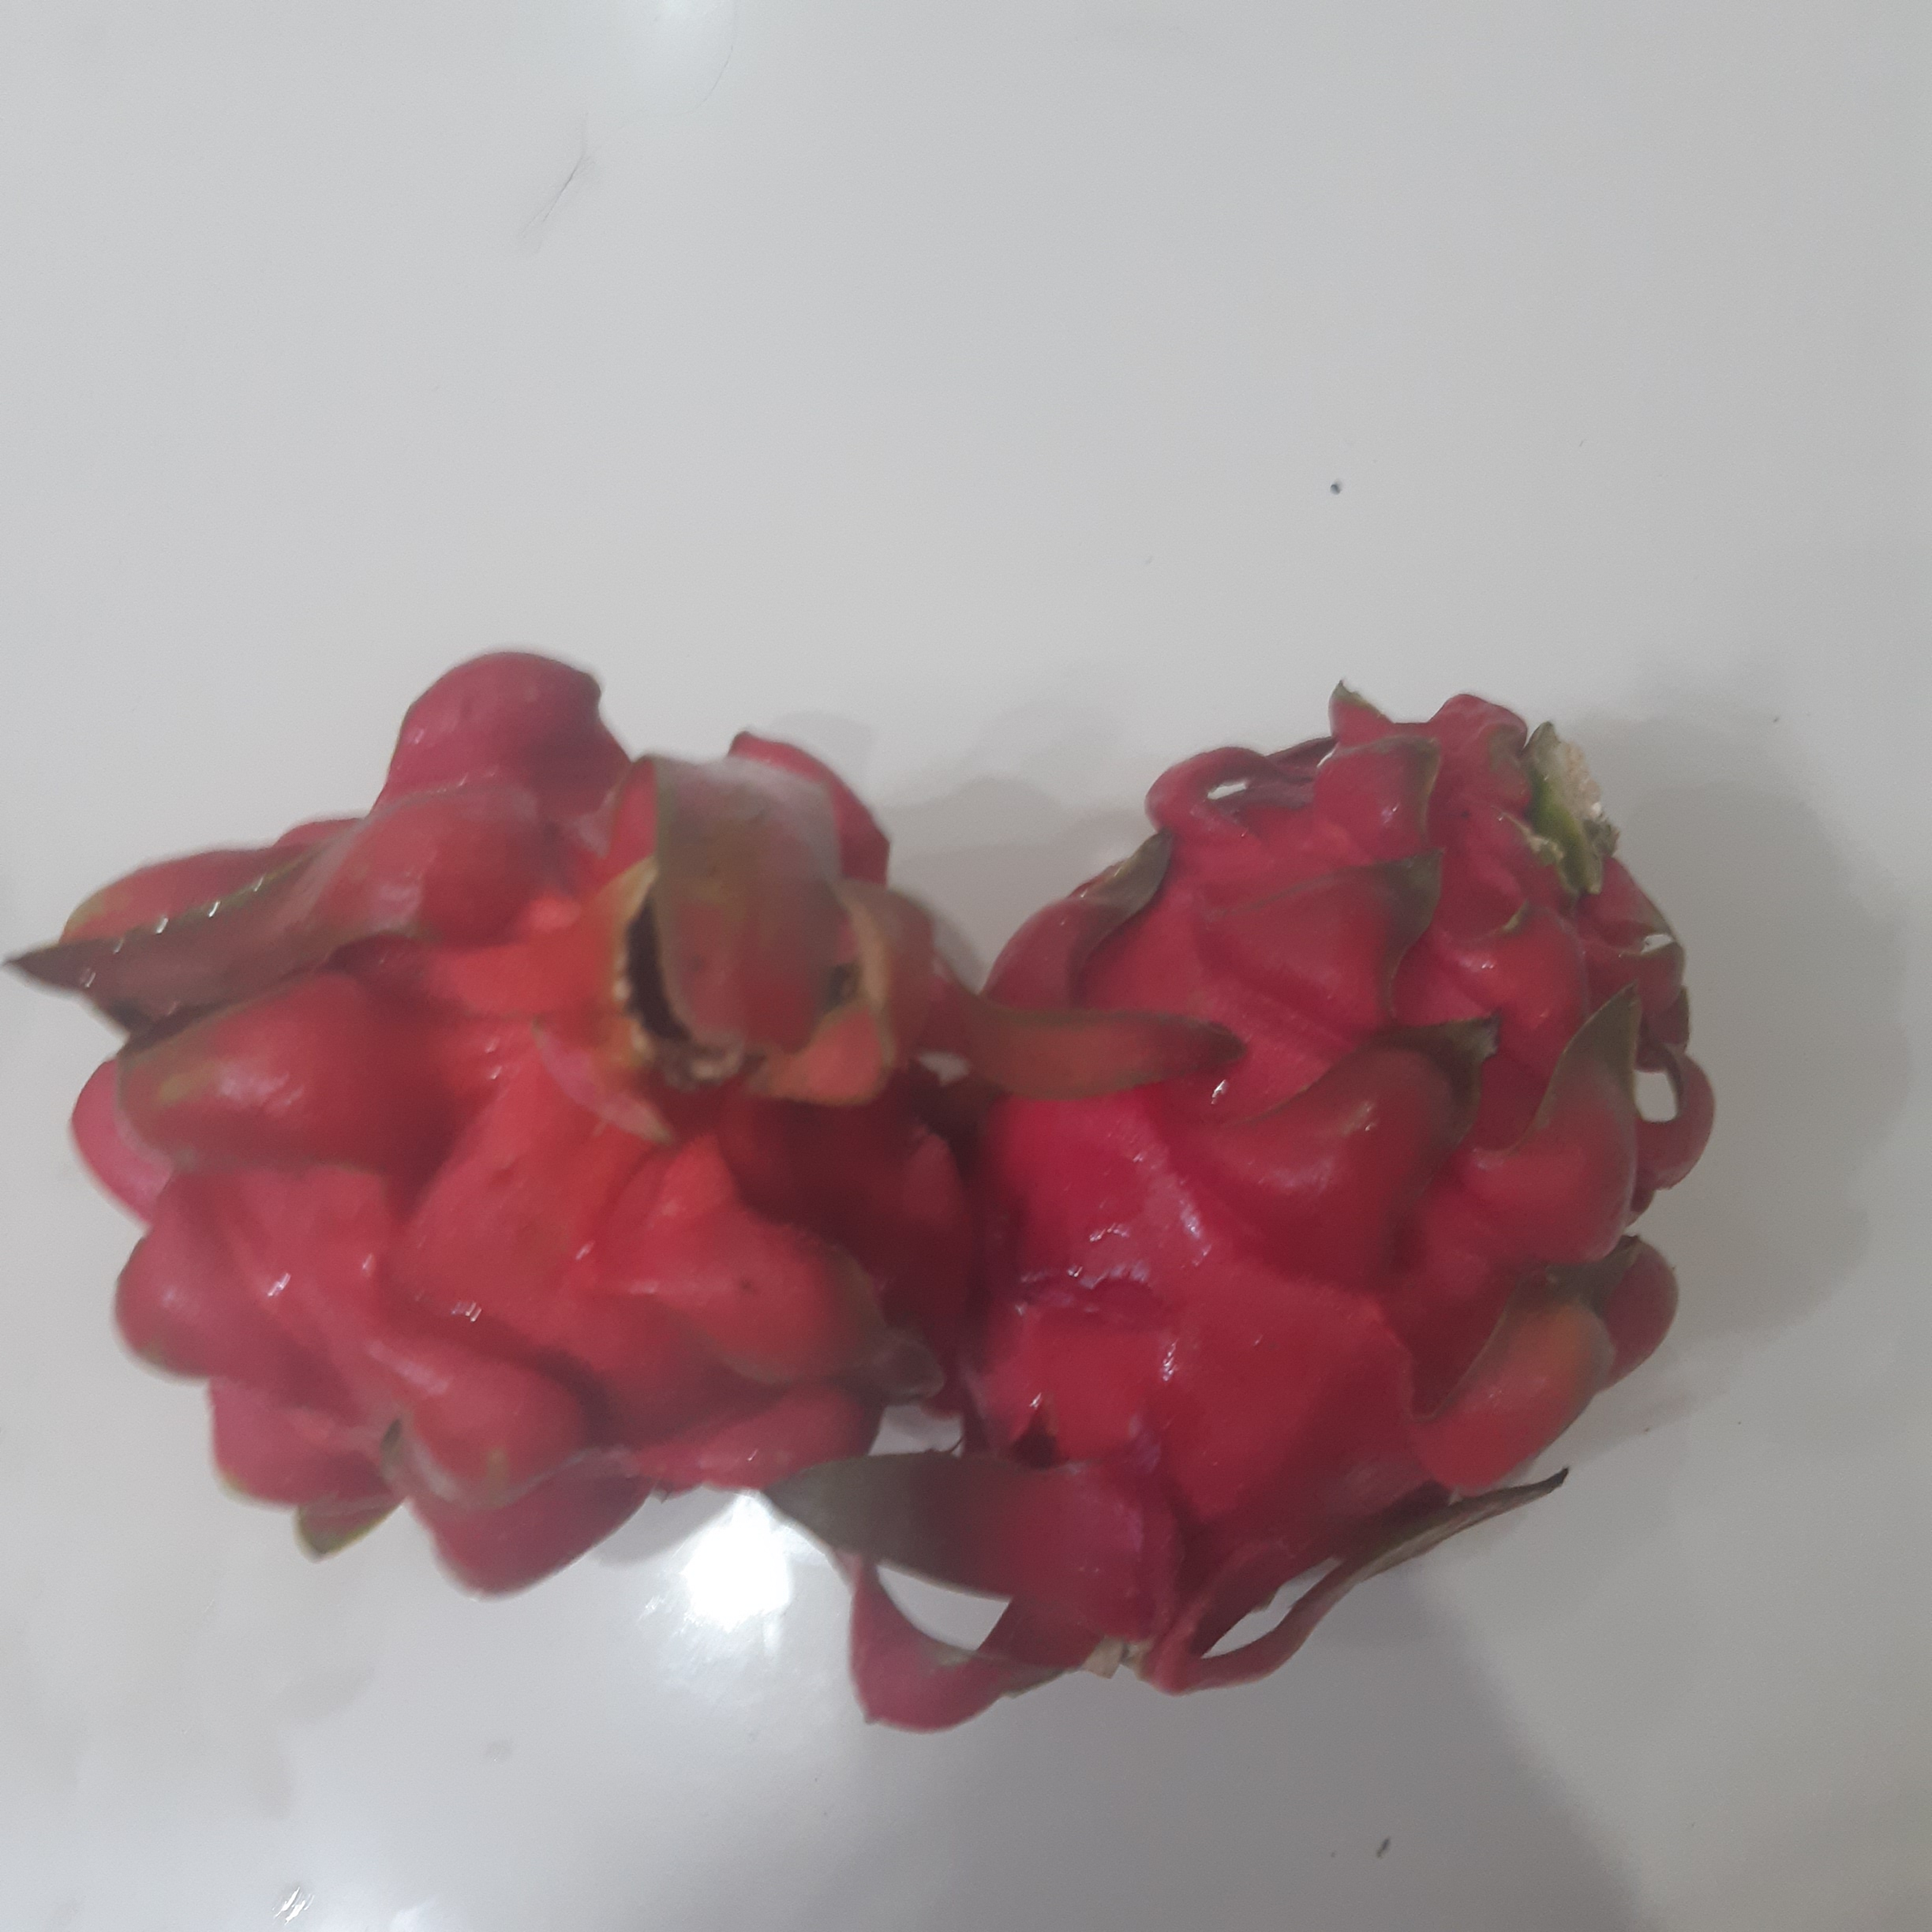Thanh long: (874, 691, 1702, 1708), (67, 746, 968, 1530)
